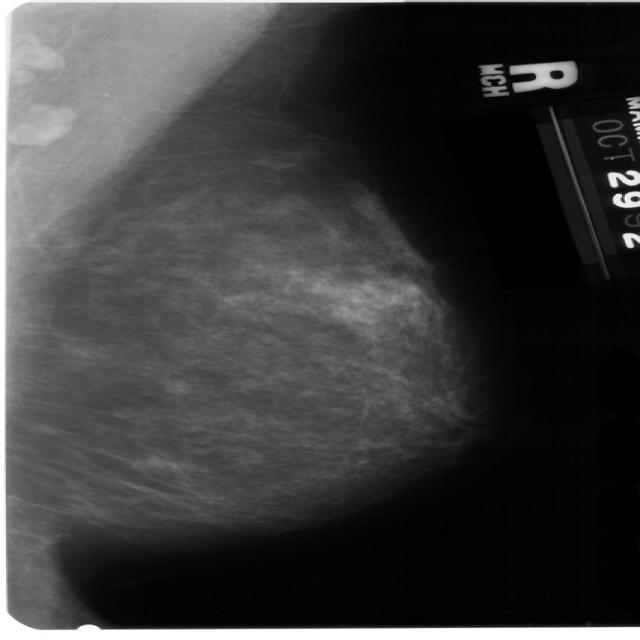tumour: (161, 377, 191, 395)
